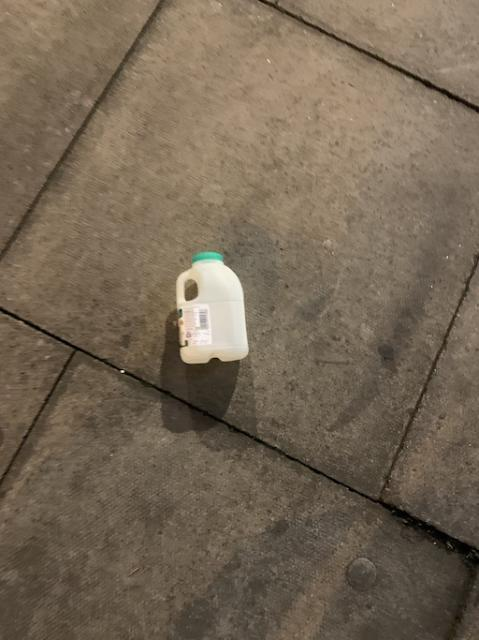plastic: (175, 250, 247, 362)
